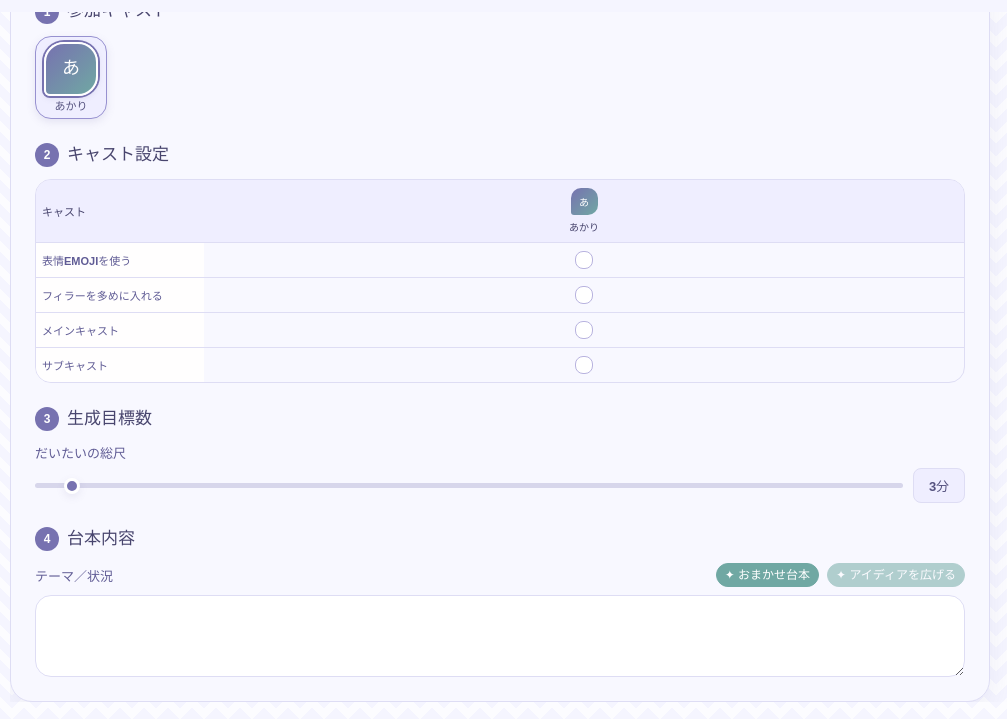
DraftView › reveals details and generation only after the script content has text
This screenshot has width=1007, height=719.
(page scrolled)
Check: the heading "4 台本内容" is shown, box 35,527 -> 135,551
Check: the heading "詳細設定" is not shown
Type "新しい台本案" into the text box labelled "テーマ／状況" at {"x": 500, "y": 636}, box 35,595 -> 965,677
(page scrolled)
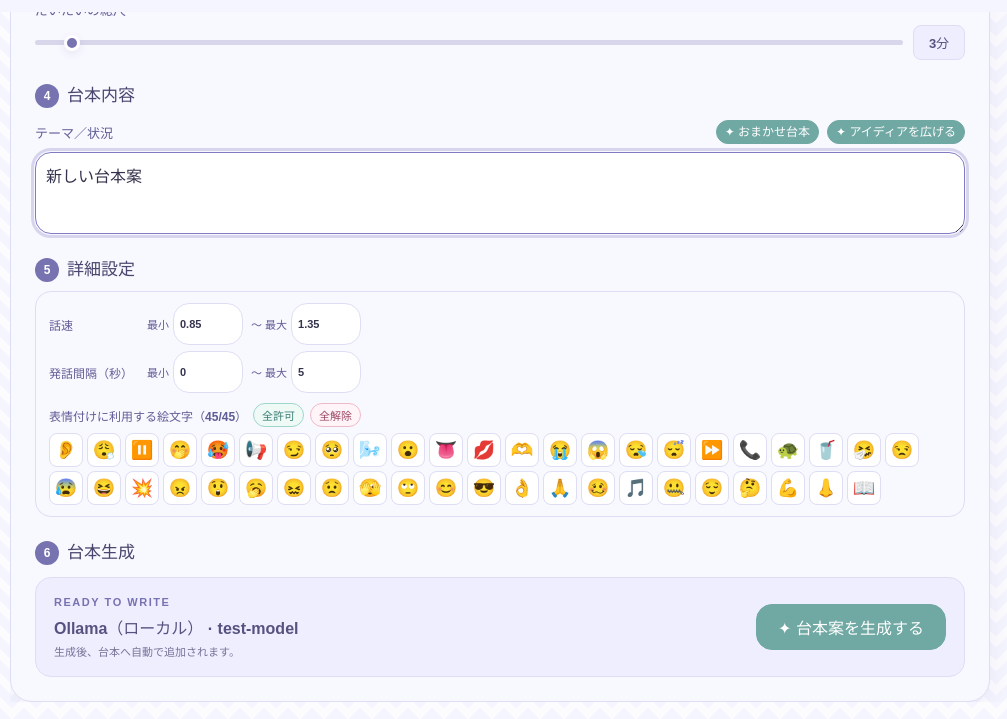
Check: the heading "5 詳細設定" is shown, box 35,258 -> 135,282
Check: the heading "6 台本生成" is shown, box 35,541 -> 135,565
Check: the button "✦ 台本案を生成する" is shown, box 756,604 -> 946,650
